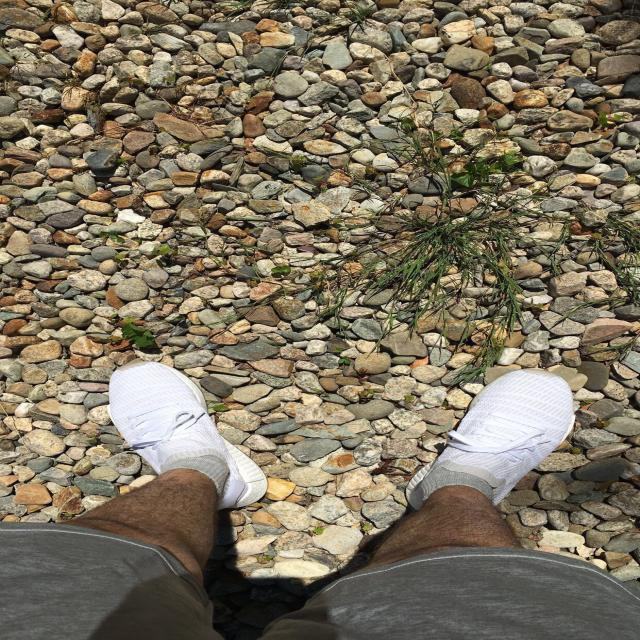shoe: (40, 304, 276, 532), (424, 315, 562, 597)
